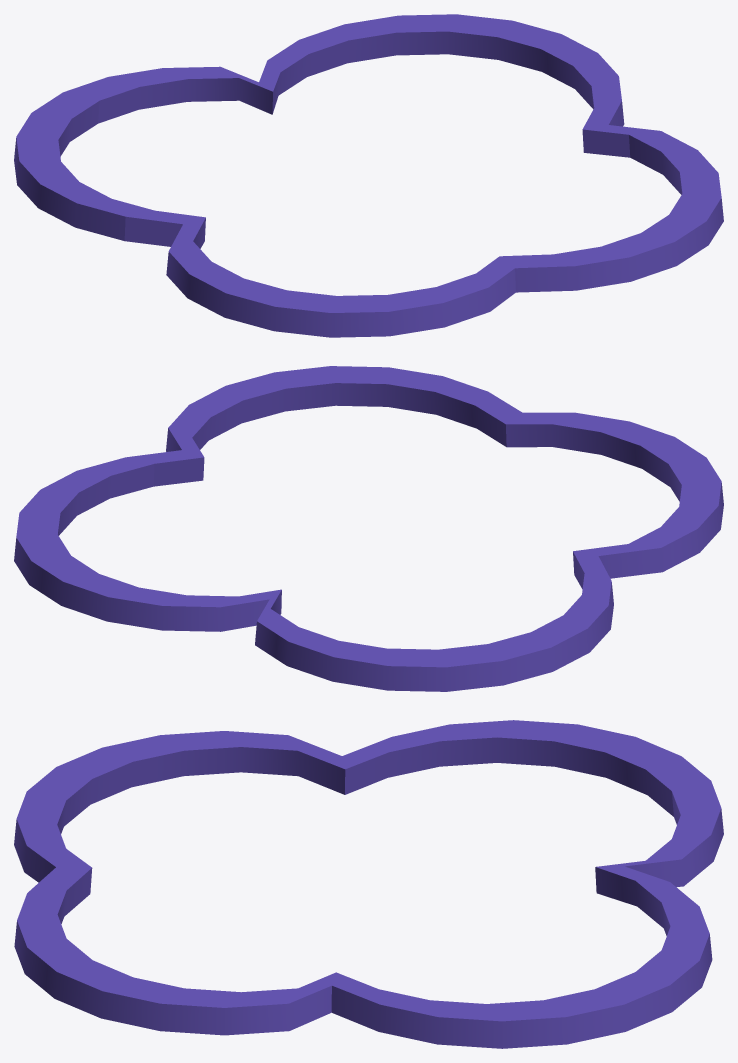
The model's file is Pepper.fbx.
The picture shows the model from 3 angles, top to bottom: view 1: azimuth 30°, elevation 25°; view 2: azimuth 150°, elevation 25°; view 3: azimuth 270°, elevation 25°; orthographic projection. The views are drawn at different scales.
Parts seen in each view (by area): view 1: pasted__Pepper_Topping2, pasted__Pepper_Topping1, Pepper_Topping, pasted__Pepper_Topping; view 2: Pepper_Topping, pasted__Pepper_Topping2, pasted__Pepper_Topping, pasted__Pepper_Topping1; view 3: Pepper_Topping, pasted__Pepper_Topping2, pasted__Pepper_Topping, pasted__Pepper_Topping1.
Boxes of the visible parts, <box> form: pasted__Pepper_Topping2: <box>14,66,272,246</box>; pasted__Pepper_Topping1: <box>166,217,515,337</box>; Pepper_Topping: <box>259,14,624,129</box>; pasted__Pepper_Topping: <box>500,125,723,292</box>; Pepper_Topping: <box>14,450,281,631</box>; pasted__Pepper_Topping2: <box>255,551,613,691</box>; pasted__Pepper_Topping: <box>166,366,522,456</box>; pasted__Pepper_Topping1: <box>505,412,723,578</box>; Pepper_Topping: <box>331,866,712,1048</box>; pasted__Pepper_Topping2: <box>342,720,723,887</box>; pasted__Pepper_Topping: <box>14,867,335,1035</box>; pasted__Pepper_Topping1: <box>14,731,345,882</box>.
Size of the model in its own units: 10.94 by 0.4433 by 10.82.
